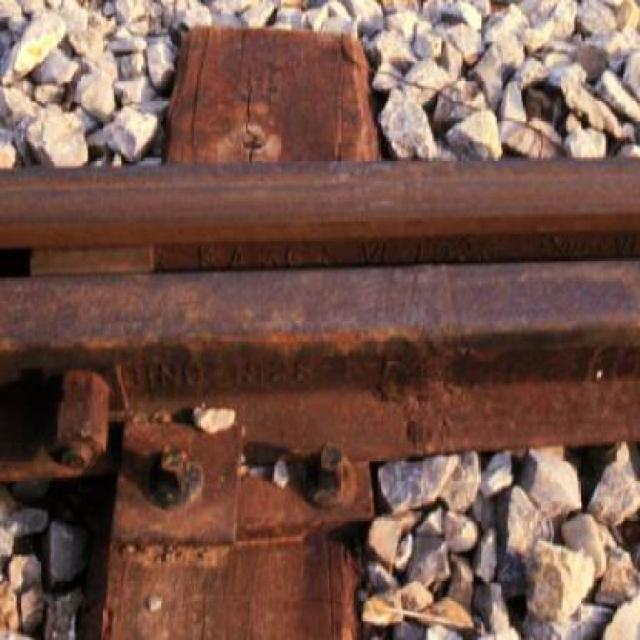defective: (6, 95, 640, 540)
